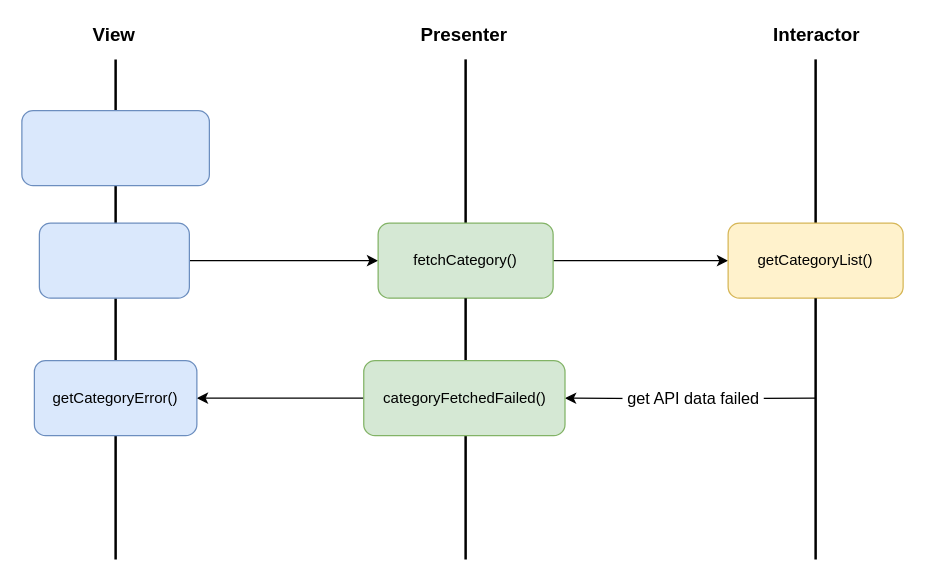
This 925x583 diagram has some shape labels left out. The shapes that lost their labels are listed below. From the top down, each one's centre as x and y in pixels, then its label:
At [115,147]: "OnBoardingVC Init".
At [113,260]: "ViewDidLoad".
